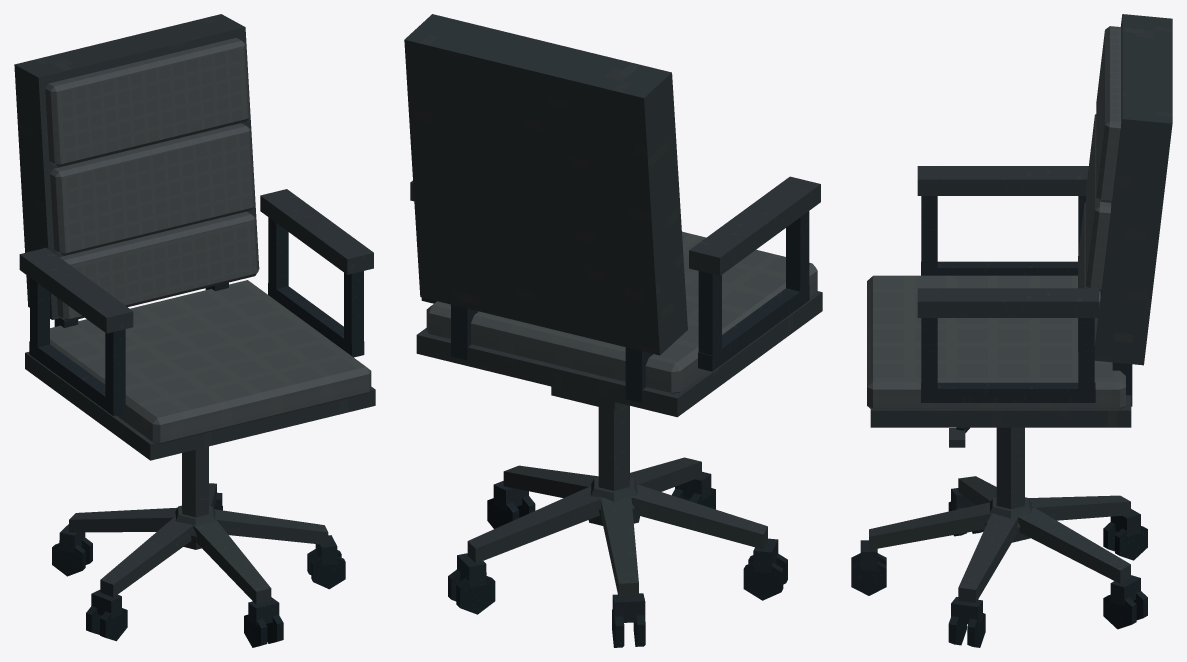
File: chair.glb
The picture shows the model from 3 angles, left to right: view 1: azimuth 30°, elevation 25°; view 2: azimuth 150°, elevation 25°; view 3: azimuth 270°, elevation 25°; orthographic projection. The views are drawn at different scales.
Parts seen in each view (by area): view 1: core_chair; view 2: core_chair; view 3: core_chair.
Boxes of the visible parts, x1,y1,x2,y2 form: core_chair: (14, 14, 375, 647); core_chair: (404, 14, 822, 647); core_chair: (851, 14, 1172, 647).
Bounding box in the file's own units: 0.5 × 0.9 × 0.5.
5 materials, 5 textured.
